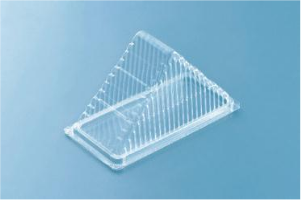PlasticBox: (60, 28, 243, 173)
